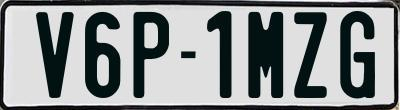1: (205, 9, 230, 97)
6: (82, 11, 117, 97)
G: (339, 10, 374, 104)
M: (248, 12, 288, 104)
P: (133, 11, 171, 103)
V: (36, 10, 76, 96)
Z: (293, 12, 329, 102)
